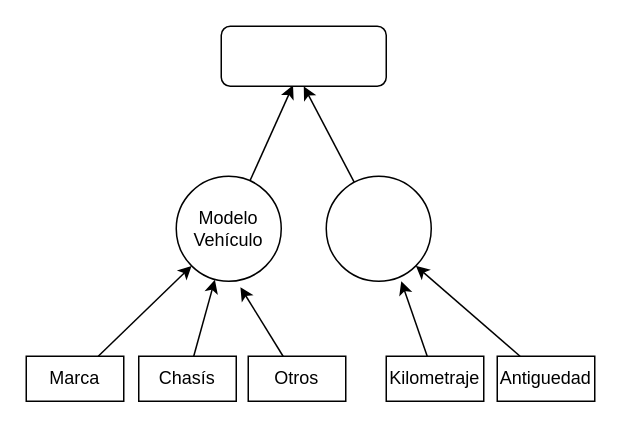
This 621x428 diagram has some shape labels left out. Here are the shapes that lost their labels. From the top down, the centre of each, then its label:
At pixel 303 55: "Precio".
At pixel 378 228: "Uso".
